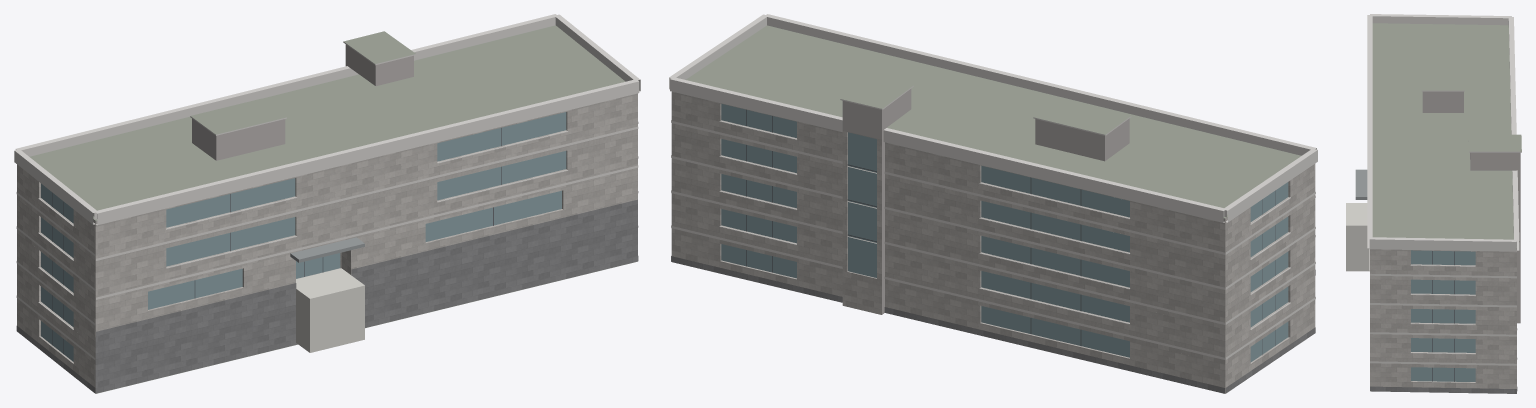
The picture shows the model from 3 angles, left to right: view 1: azimuth 30°, elevation 25°; view 2: azimuth 150°, elevation 25°; view 3: azimuth 270°, elevation 25°; orthographic projection. The views are drawn at different scales.
Parts seen in each view (by area): view 1: b29__wall, b29__roof, b29__base, b29__trim, b29__glass, b29__entranceStair, b29__wall2, b29__canopy; view 2: b29__wall, b29__roof, b29__trim, b29__glass, b29__wall2, b29__base, b29__frame; view 3: b29__roof, b29__wall, b29__trim, b29__glass, b29__wall2, b29__entranceStair, b29__base, b29__canopy.
Part boxes in pixels (<box>): b29__wall: <box>17,93,637,393</box>; b29__roof: <box>29,25,635,393</box>; b29__base: <box>16,199,638,393</box>; b29__trim: <box>14,14,640,359</box>; b29__glass: <box>41,112,566,361</box>; b29__entranceStair: <box>296,268,364,352</box>; b29__wall2: <box>192,44,413,160</box>; b29__canopy: <box>290,237,364,262</box>; b29__wall: <box>671,91,1315,393</box>; b29__roof: <box>686,25,1301,393</box>; b29__trim: <box>669,14,1317,359</box>; b29__glass: <box>721,104,1288,362</box>; b29__wall2: <box>842,89,1129,314</box>; b29__base: <box>671,256,1315,393</box>; b29__frame: <box>746,109,1275,354</box>; b29__roof: <box>1371,23,1521,391</box>; b29__wall: <box>1370,248,1516,388</box>; b29__trim: <box>1367,14,1521,365</box>; b29__glass: <box>1411,250,1475,381</box>; b29__wall2: <box>1422,91,1520,323</box>; b29__entranceStair: <box>1346,203,1369,271</box>; b29__base: <box>1370,386,1517,393</box>; b29__canopy: <box>1355,169,1367,199</box>.
Bounding box in the file's own units: 60.29 × 21.29 × 19.65.
10 materials, 2 textured.
